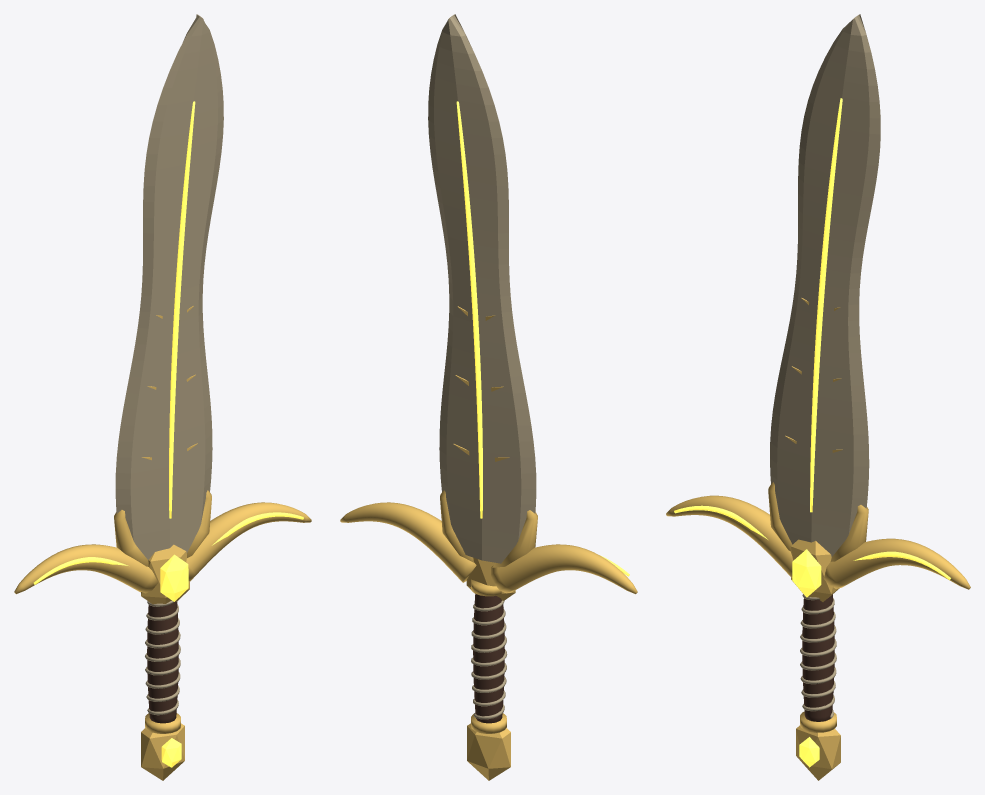
File: ember_sunbreaker.glb
3 views of the same model, side by side, from view 1: azimuth 30°, elevation 25°; view 2: azimuth 150°, elevation 25°; view 3: azimuth 330°, elevation 25° (orthographic). The views are drawn at different scales.
Visible parts, largest first — view 1: Sunbreaker blade, Swept guard wing.018, Tapered leather grip.009, Swept guard wing.019, Curved fuller inlay.018, Faceted pommel.009, Helical grip binding.009, Guard gemstone.009, Guard socket.009, Crown blade prong.012, Crown blade prong.013; view 2: Sunbreaker blade, Swept guard wing.018, Swept guard wing.019, Tapered leather grip.009, Curved fuller inlay.019, Faceted pommel.009, Helical grip binding.009, Crown blade prong.012, Guard socket.009, Crown blade prong.013; view 3: Sunbreaker blade, Swept guard wing.019, Tapered leather grip.009, Swept guard wing.018, Curved fuller inlay.018, Helical grip binding.009, Faceted pommel.009, Guard gemstone.009, Guard socket.009, Crown blade prong.013, Crown blade prong.012.
Boxes of the visible parts, x1,y1,x2,y2 form: Sunbreaker blade: [115, 14, 223, 560]; Swept guard wing.018: [14, 544, 157, 594]; Tapered leather grip.009: [147, 601, 178, 723]; Swept guard wing.019: [186, 502, 311, 581]; Curved fuller inlay.018: [169, 101, 195, 518]; Faceted pommel.009: [141, 723, 184, 780]; Helical grip binding.009: [145, 600, 180, 715]; Guard gemstone.009: [160, 554, 188, 601]; Guard socket.009: [141, 544, 189, 604]; Crown blade prong.012: [114, 510, 148, 566]; Crown blade prong.013: [187, 490, 211, 557]; Sunbreaker blade: [428, 14, 536, 563]; Swept guard wing.018: [491, 544, 637, 594]; Swept guard wing.019: [340, 502, 476, 582]; Tapered leather grip.009: [473, 594, 504, 723]; Curved fuller inlay.019: [456, 101, 482, 518]; Faceted pommel.009: [467, 723, 510, 780]; Helical grip binding.009: [471, 600, 507, 719]; Crown blade prong.012: [492, 510, 537, 567]; Guard socket.009: [466, 557, 515, 600]; Crown blade prong.013: [440, 490, 474, 562]; Sunbreaker blade: [770, 14, 880, 556]; Swept guard wing.019: [823, 538, 970, 589]; Tapered leather grip.009: [802, 594, 834, 721]; Swept guard wing.018: [666, 495, 793, 577]; Curved fuller inlay.018: [810, 98, 842, 512]; Helical grip binding.009: [800, 594, 836, 718]; Faceted pommel.009: [796, 725, 840, 780]; Guard gemstone.009: [792, 549, 821, 597]; Guard socket.009: [790, 539, 839, 601]; Crown blade prong.013: [830, 505, 868, 561]; Crown blade prong.012: [768, 482, 792, 550].
Bounding box in the file's own units: 2.55 × 6.2 × 0.3739.
